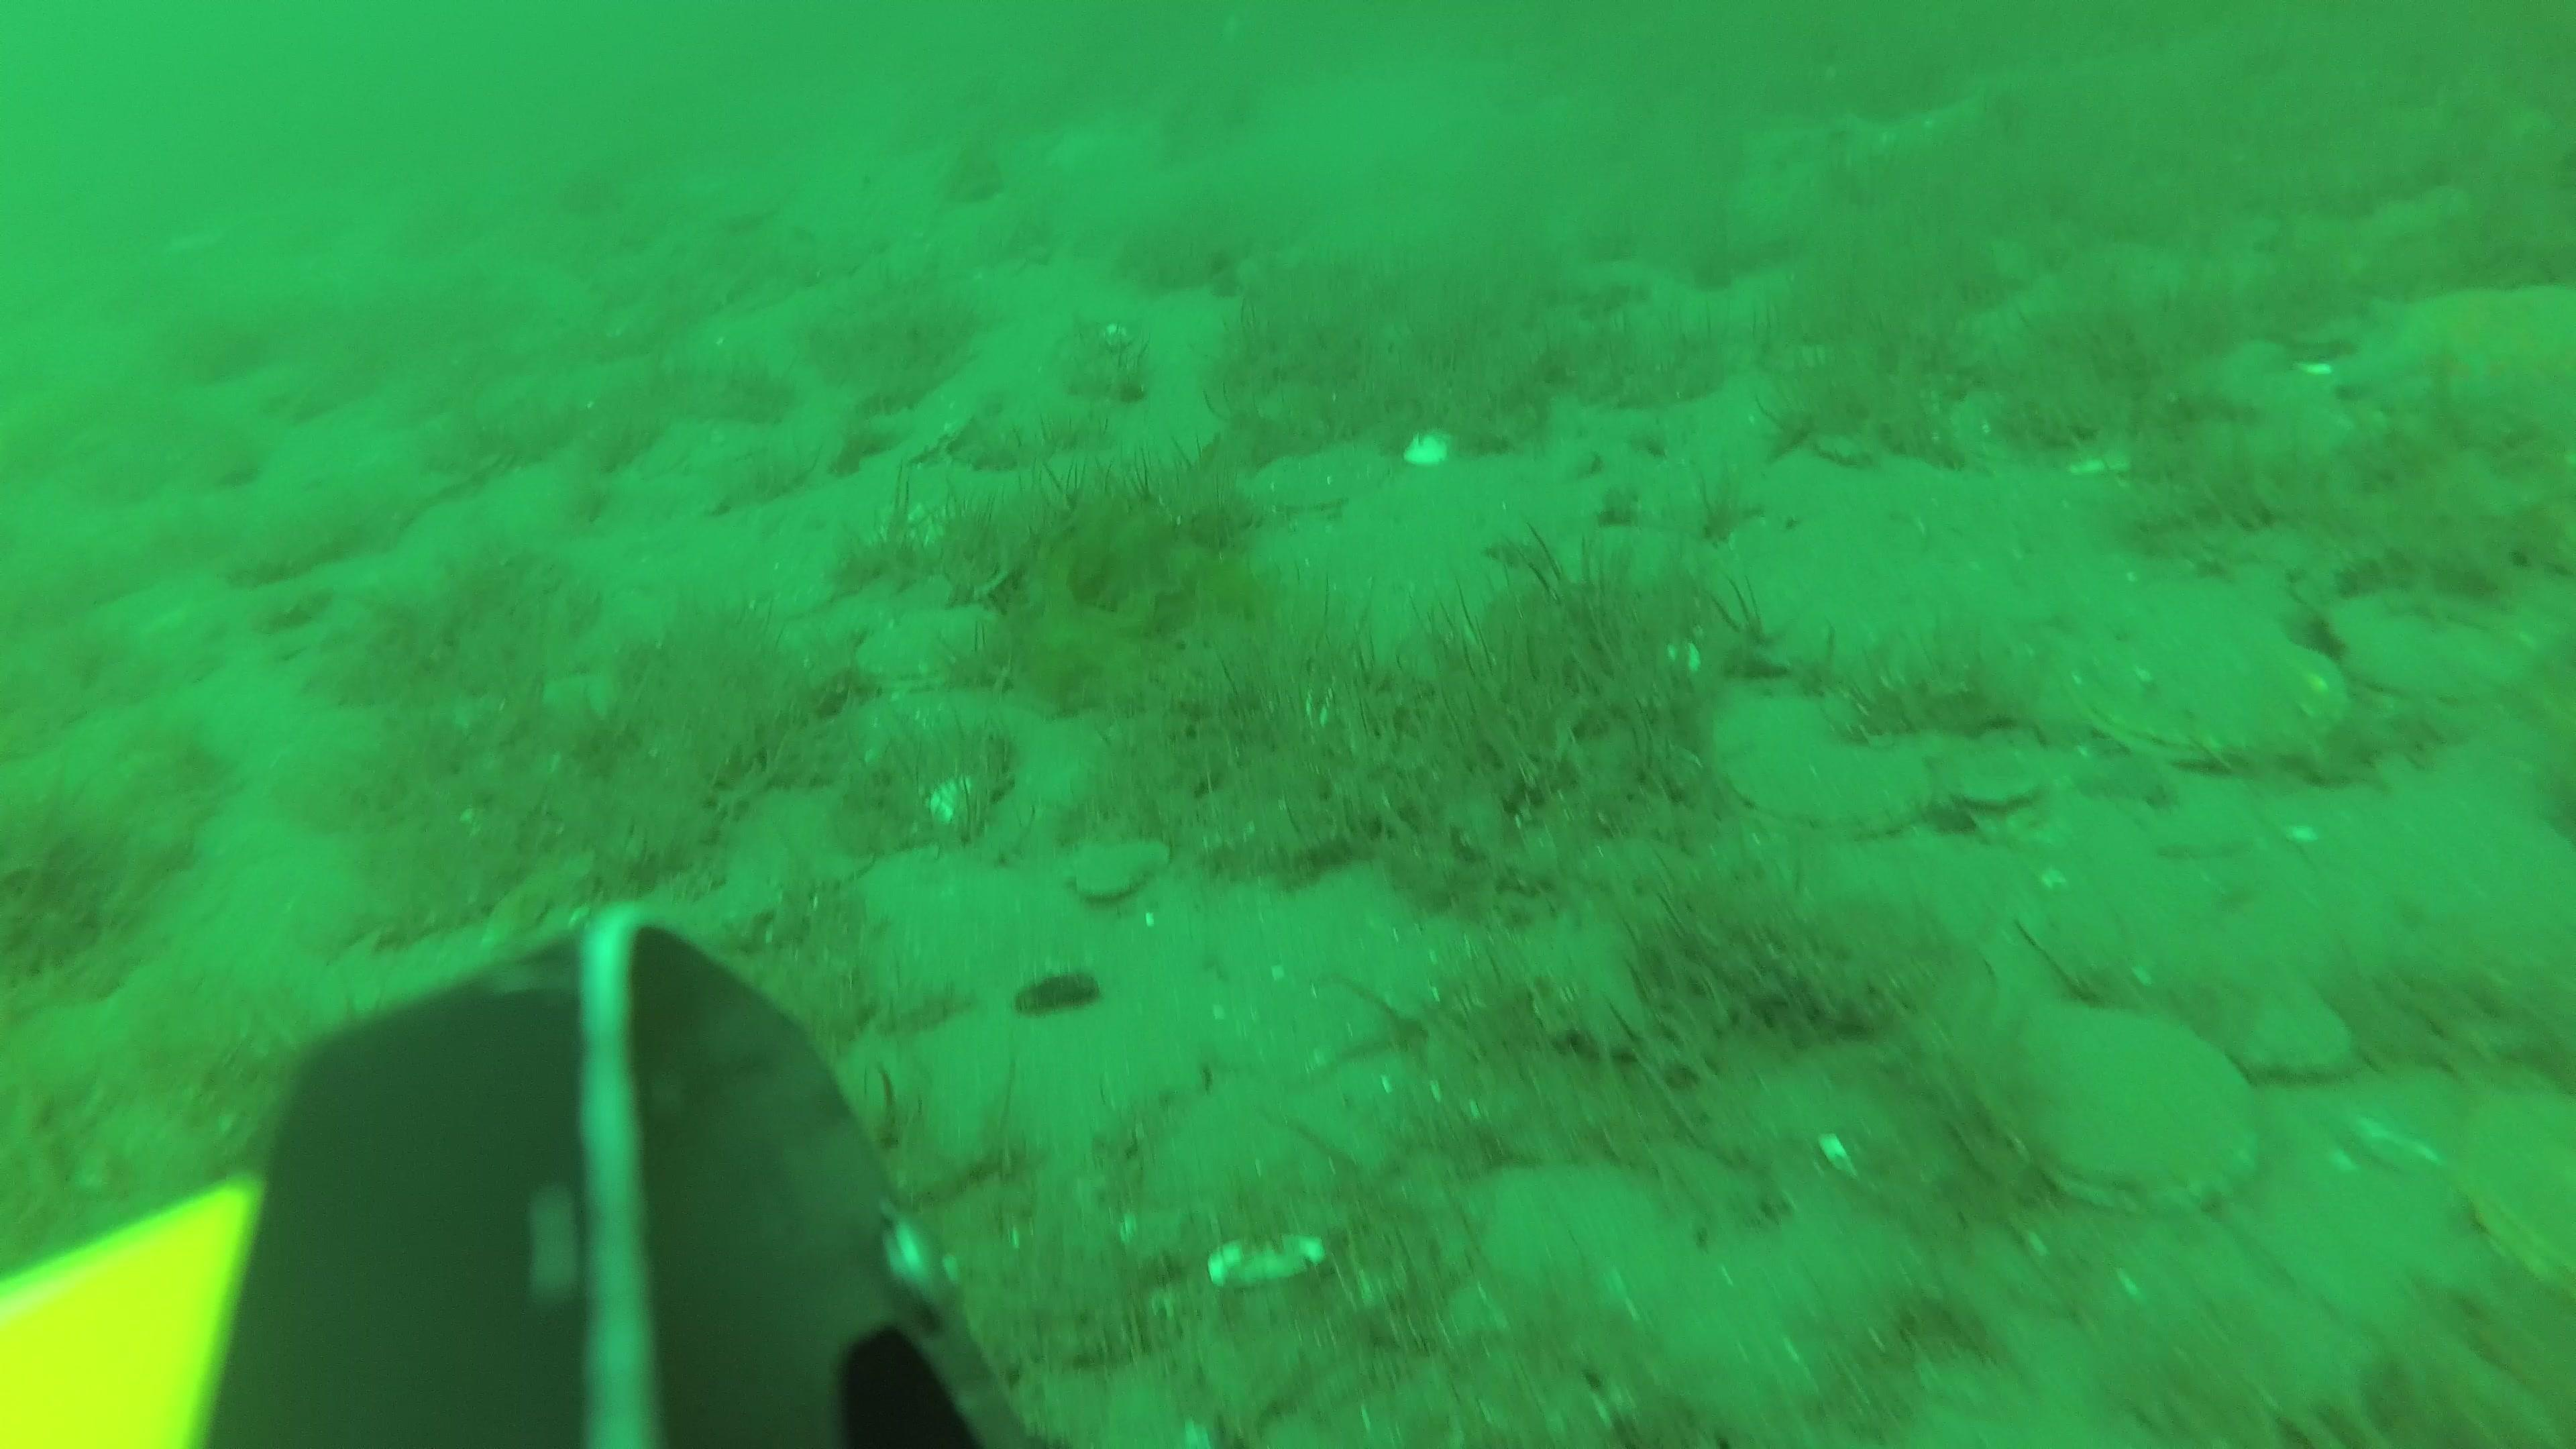scallop: (1987, 1000, 2258, 1210), (2084, 621, 2344, 771), (2341, 582, 2532, 706), (2468, 1090, 2576, 1293), (1741, 727, 1923, 833), (860, 610, 1005, 690), (2235, 998, 2351, 1085), (1260, 444, 1392, 513), (1067, 833, 1169, 904), (1960, 770, 2038, 816)
starfish: (2341, 278, 2576, 432)
